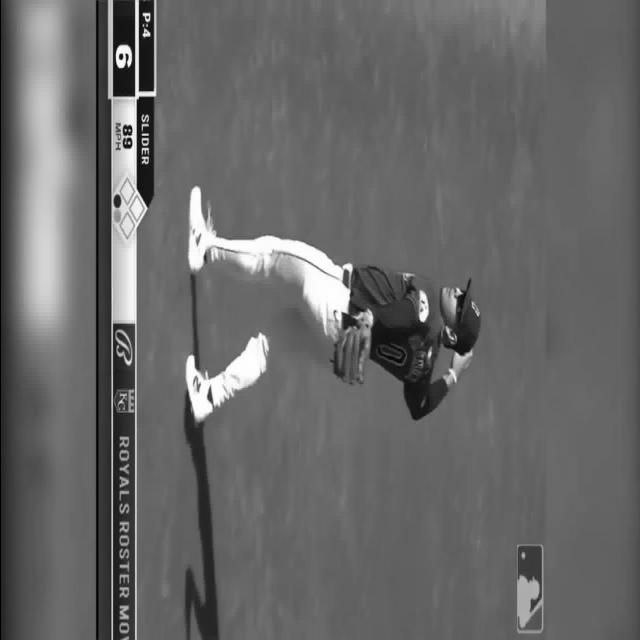baseball_glove: (334, 320, 370, 385)
shoe: (185, 356, 212, 425), (188, 187, 205, 273)
